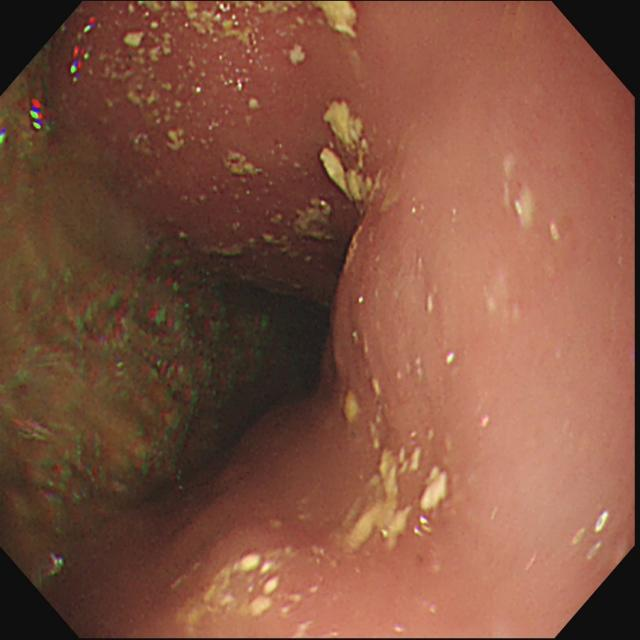B: (2, 81, 227, 505)
J: (126, 2, 376, 202), (338, 375, 451, 555), (175, 548, 335, 627), (196, 197, 337, 262)
U: (72, 14, 96, 83), (28, 96, 44, 133)
